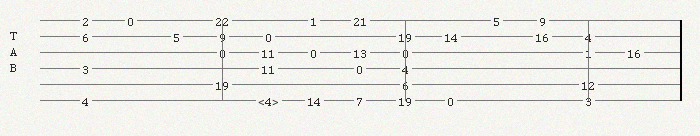0: (127, 14, 138, 26), (219, 46, 230, 58), (265, 30, 276, 42), (310, 46, 321, 58), (356, 62, 367, 74), (402, 46, 413, 58), (447, 94, 458, 106)
1: (310, 14, 321, 26), (585, 46, 596, 58)
11: (261, 46, 279, 58), (261, 62, 279, 74)
12: (581, 78, 599, 90)
13: (353, 46, 371, 58)
14: (307, 94, 325, 106), (444, 30, 462, 42)
16: (535, 30, 553, 42), (627, 46, 645, 58)
19: (215, 78, 233, 90), (398, 30, 416, 42), (398, 94, 416, 106)
2: (82, 14, 93, 26)
21: (353, 14, 371, 26)
22: (215, 14, 233, 26)
3: (82, 62, 93, 74), (585, 94, 596, 106)
4: (82, 94, 93, 106), (402, 62, 413, 74), (585, 30, 596, 42)
5: (173, 30, 184, 42), (493, 14, 504, 26)
6: (82, 30, 93, 42), (402, 78, 413, 90)
7: (356, 94, 367, 106)
9: (219, 30, 230, 42), (539, 14, 550, 26)
harmonic: (258, 94, 283, 106)
